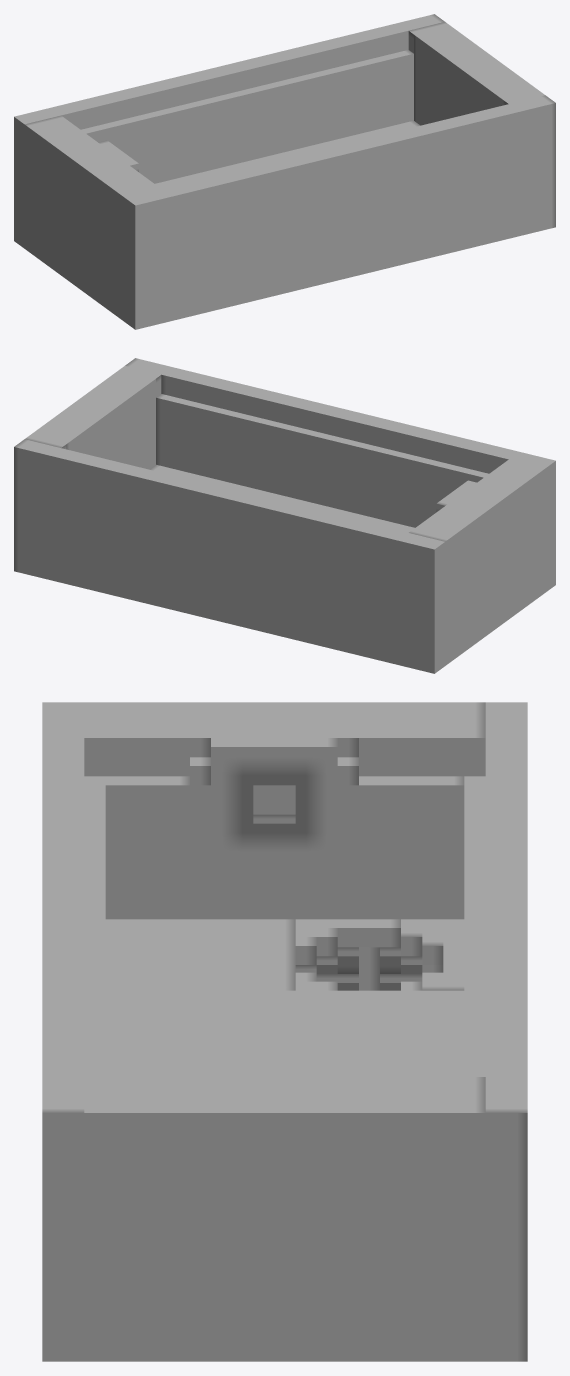
Rendered from Wanna.dae.
3 views of the same model, one above another, from view 1: azimuth 30°, elevation 25°; view 2: azimuth 150°, elevation 25°; view 3: azimuth 270°, elevation 25° (orthographic). The views are drawn at different scales.
Parts seen in each view (by area): view 1: Content; view 2: Content; view 3: Content.
Boxes of the visible parts, left/top/right/bottom form: Content: left=14, top=14, right=555, bottom=329; Content: left=14, top=358, right=555, bottom=673; Content: left=42, top=702, right=527, bottom=1361.
Bounding box in the file's own units: 46 × 13 × 23.
Materials: 1 (1 with a texture image).
